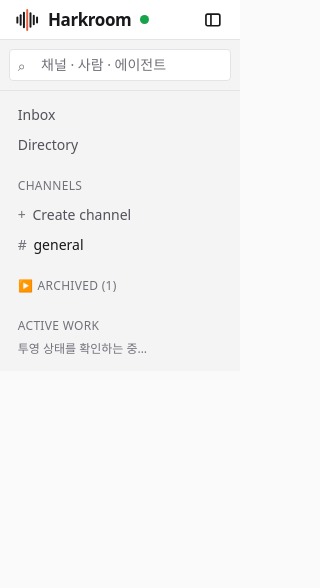
it: 채널 삭제 UI (#155) › 보관된 채널에는 삭제 항목이 있다
Click the button "▶ Archived (1)" at (120, 288), box [9,277,231,300]
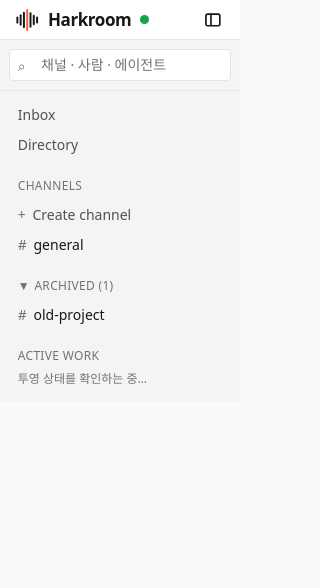
Right-click the button "# old-project" at (120, 314), box [9,300,231,329]
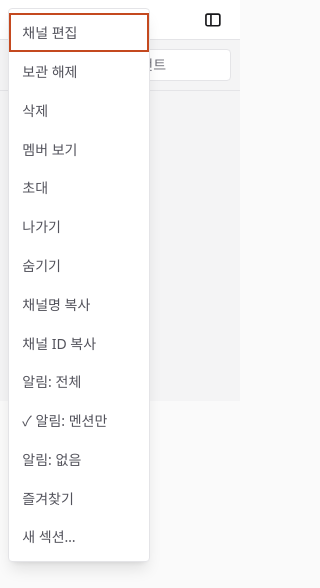
Result: the text "삭제" is shown at [22,100,48,121]
